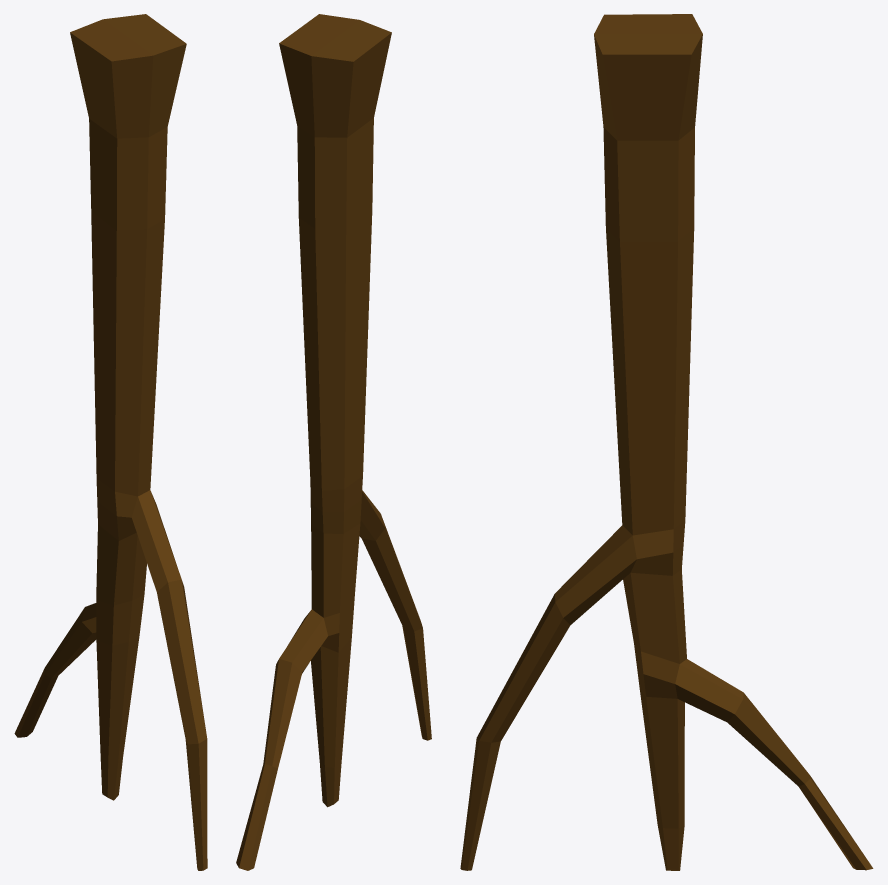
The picture shows the model from 3 angles, left to right: view 1: azimuth 30°, elevation 25°; view 2: azimuth 150°, elevation 25°; view 3: azimuth 270°, elevation 25°; orthographic projection. The views are drawn at different scales.
Visible parts, largest first — view 1: Cube.029; view 2: Cube.029; view 3: Cube.029.
Boxes of the visible parts, x1=… form: Cube.029: x1=14, y1=14, x2=207, y2=870; Cube.029: x1=236, y1=14, x2=431, y2=870; Cube.029: x1=460, y1=14, x2=873, y2=870.
Size of the model in its own units: 20.9 by 202 by 90.05.
